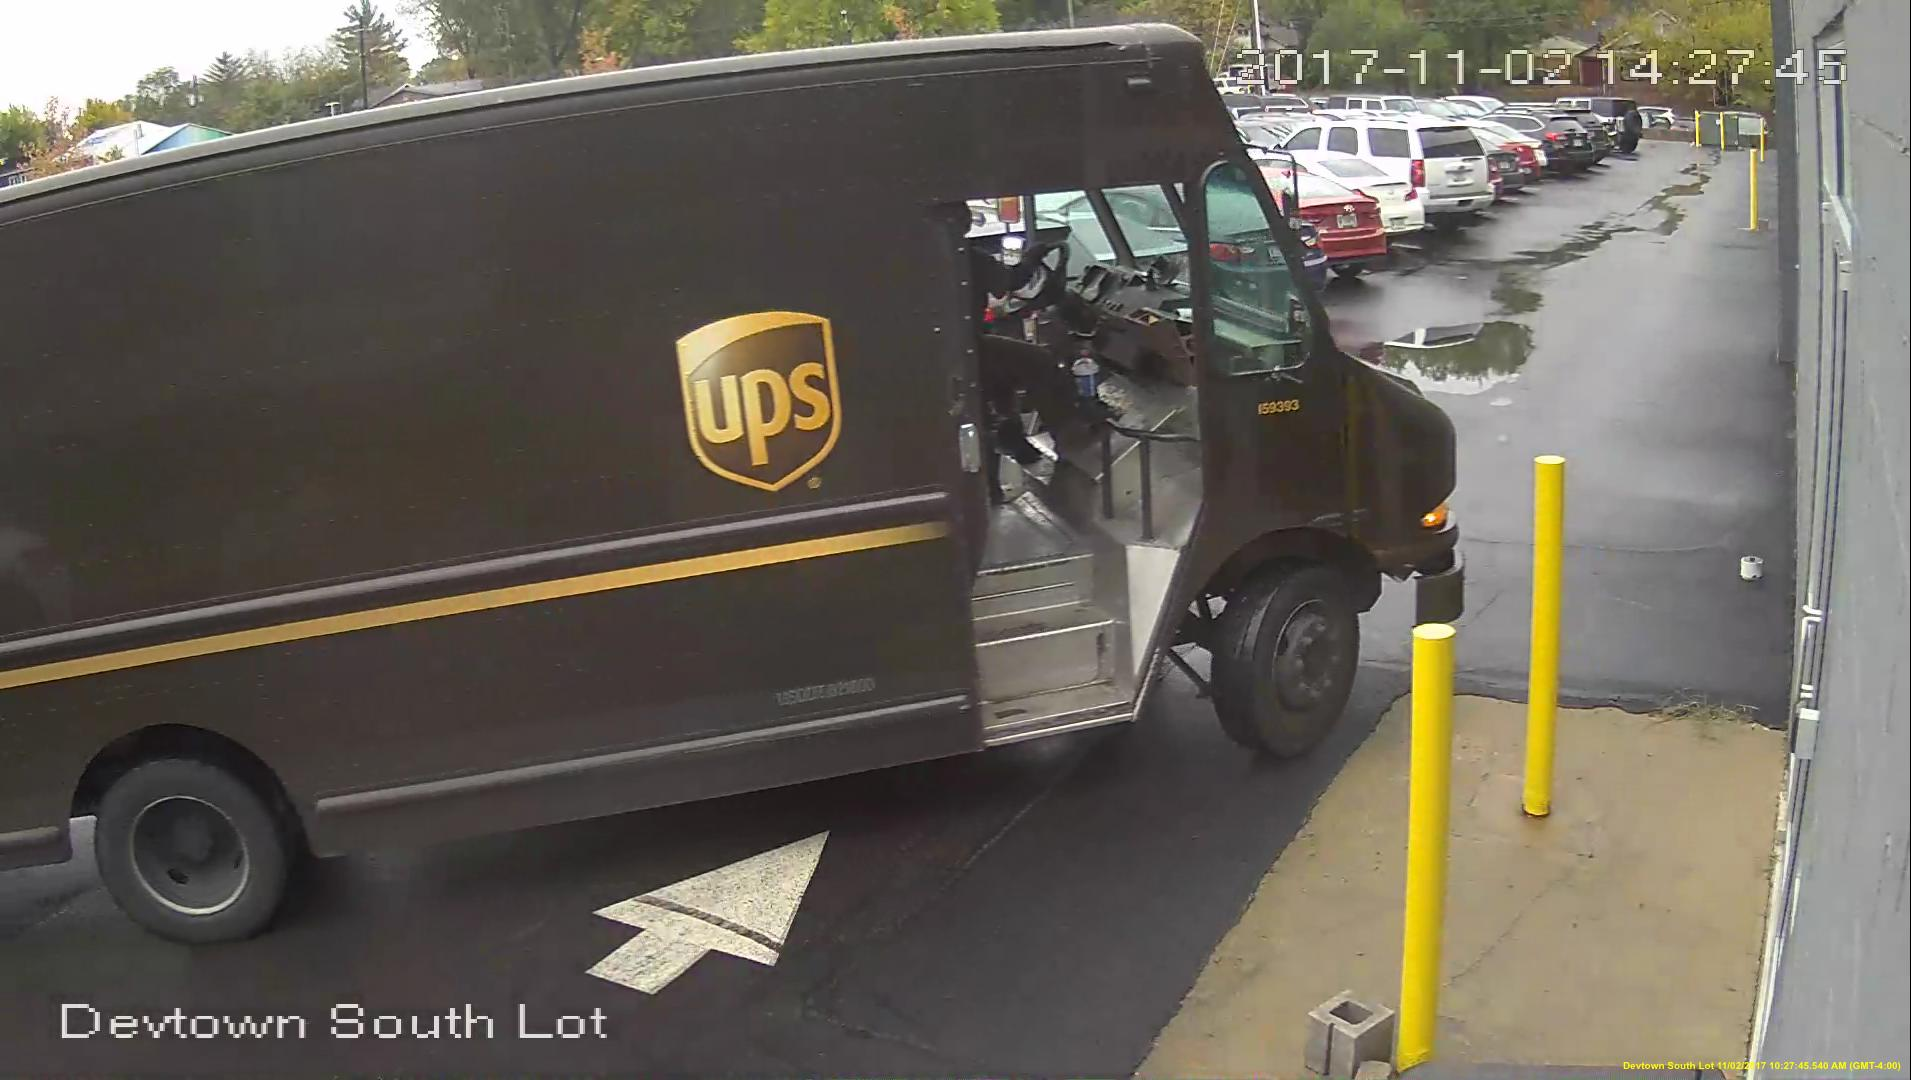ups_truck: (1, 26, 1458, 961)
